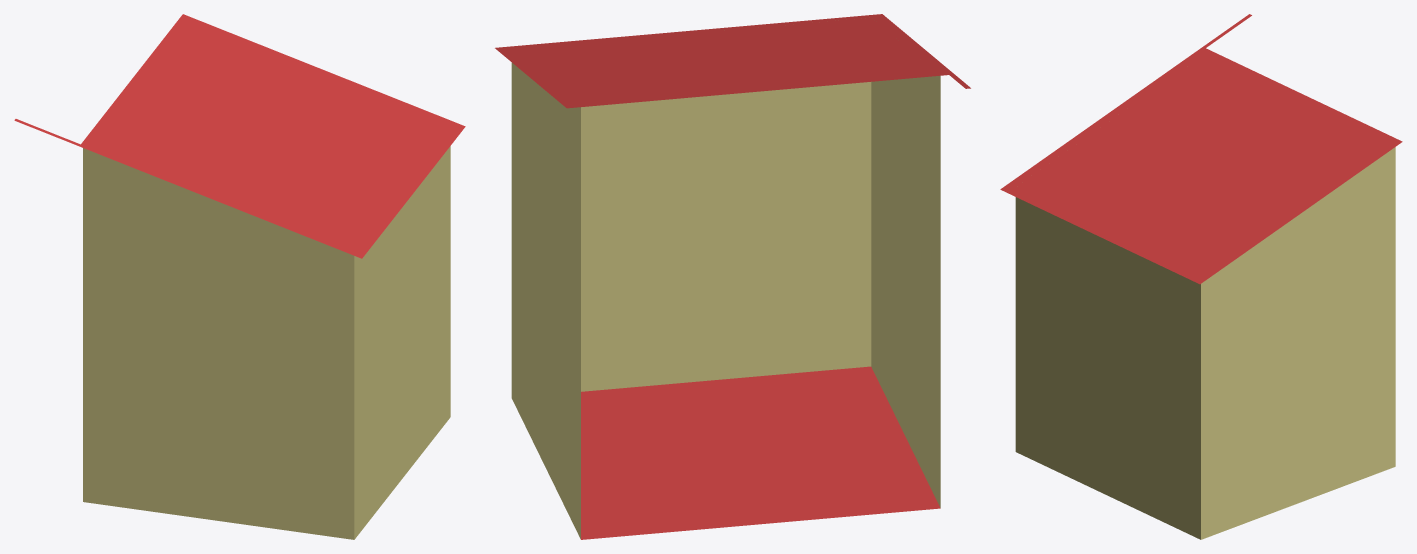
3 views of the same model, side by side, from view 1: azimuth 30°, elevation 25°; view 2: azimuth 150°, elevation 25°; view 3: azimuth 270°, elevation 25° (orthographic). The views are drawn at different scales.
Size of the model in its own units: 10.18 by 9.18 by 8.65.
